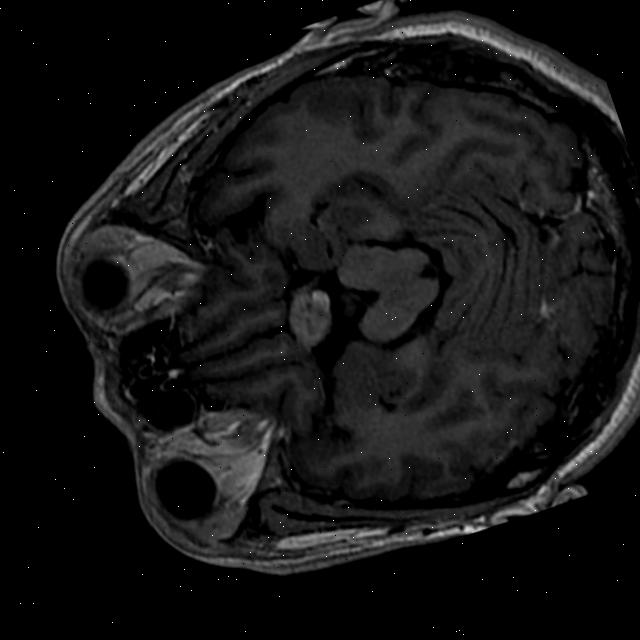Pituitary: (277, 279, 343, 353)
